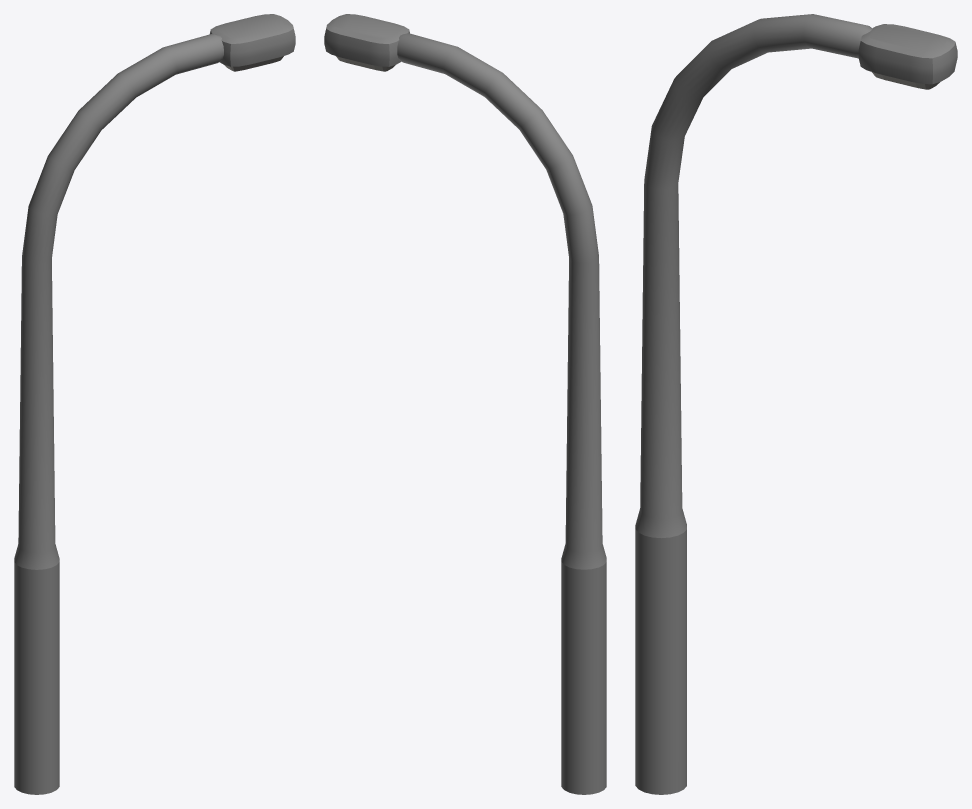
The model's file is StreetLight.FBX.
3 renders of one model, left to right at view 1: azimuth 30°, elevation 25°; view 2: azimuth 150°, elevation 25°; view 3: azimuth 330°, elevation 25°, orthographic. The views are drawn at different scales.
Visible parts, largest first — view 1: Cylinder001, Box001; view 2: Cylinder001, Box001; view 3: Cylinder001, Box001.
Part boxes in pixels (<box>): Cylinder001: <box>14,33,223,794</box>; Box001: <box>210,14,295,71</box>; Cylinder001: <box>397,33,606,794</box>; Box001: <box>324,14,409,71</box>; Cylinder001: <box>635,14,872,794</box>; Box001: <box>858,24,957,89</box>.
Bounding box in the file's own units: 146 × 362 × 24.93.
Materials: 2 (2 with a texture image).
